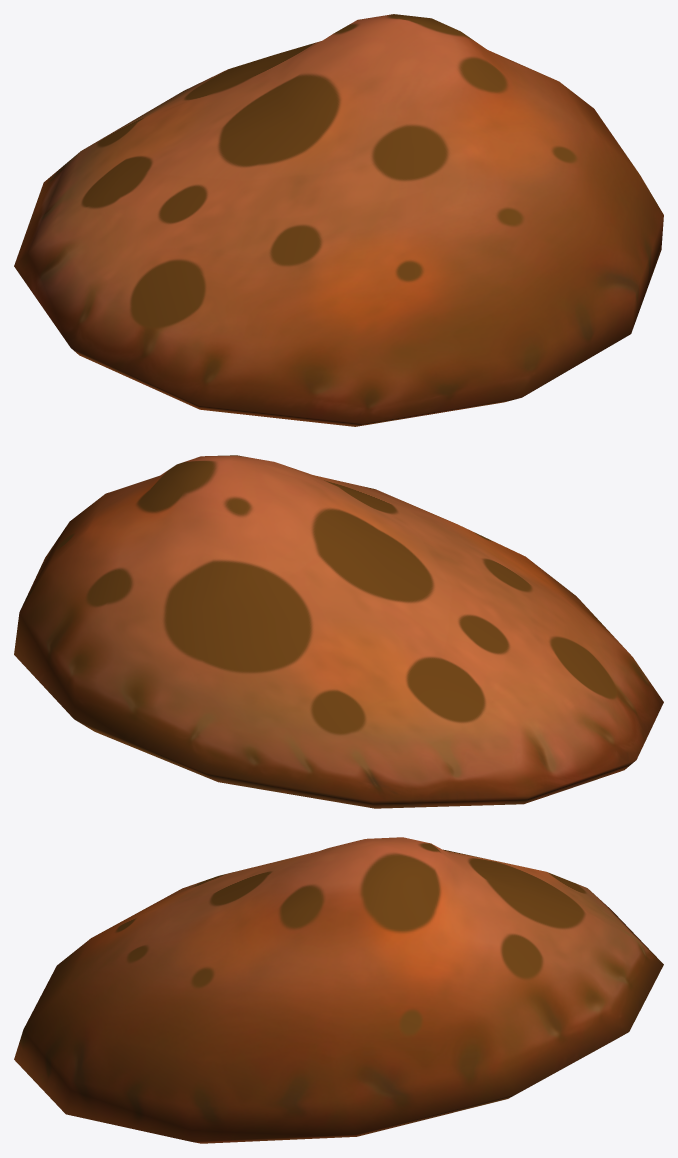
Rendered from MagicMushroomBrown.fbx.
3 renders of one model, top to bottom at view 1: azimuth 30°, elevation 25°; view 2: azimuth 150°, elevation 25°; view 3: azimuth 270°, elevation 25°, orthographic. The views are drawn at different scales.
Parts seen in each view (by area): view 1: Fulles_LP.023; view 2: Fulles_LP.023; view 3: Fulles_LP.023.
Boxes of the visible parts, <box> form: Fulles_LP.023: <box>14,14,663,426</box>; Fulles_LP.023: <box>14,455,663,808</box>; Fulles_LP.023: <box>14,837,663,1143</box>.
Bounding box in the file's own units: 514 × 220 × 505.
